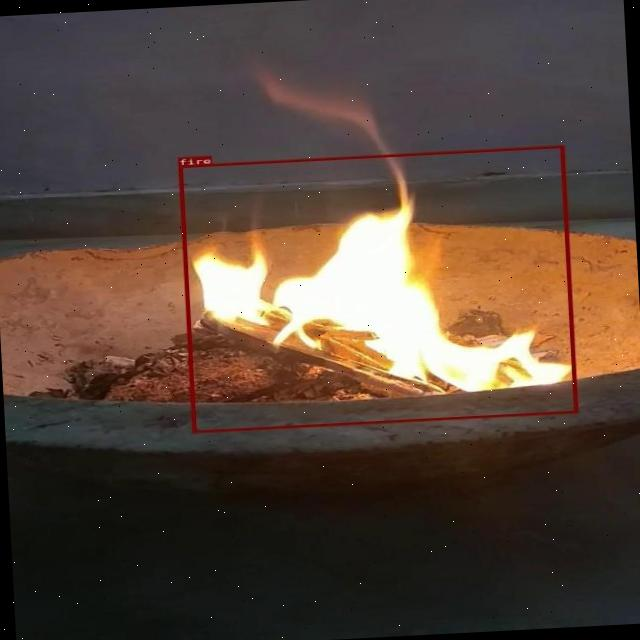fire: (179, 145, 577, 433)
